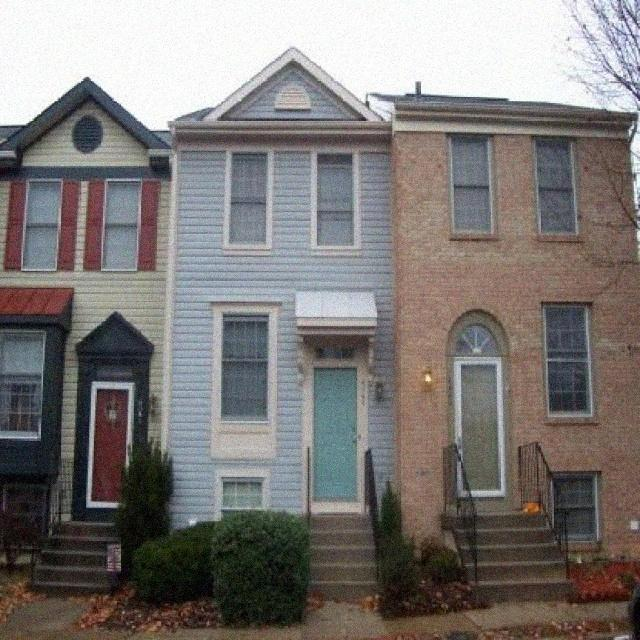stair: (438, 443, 576, 603), (26, 520, 120, 600)
